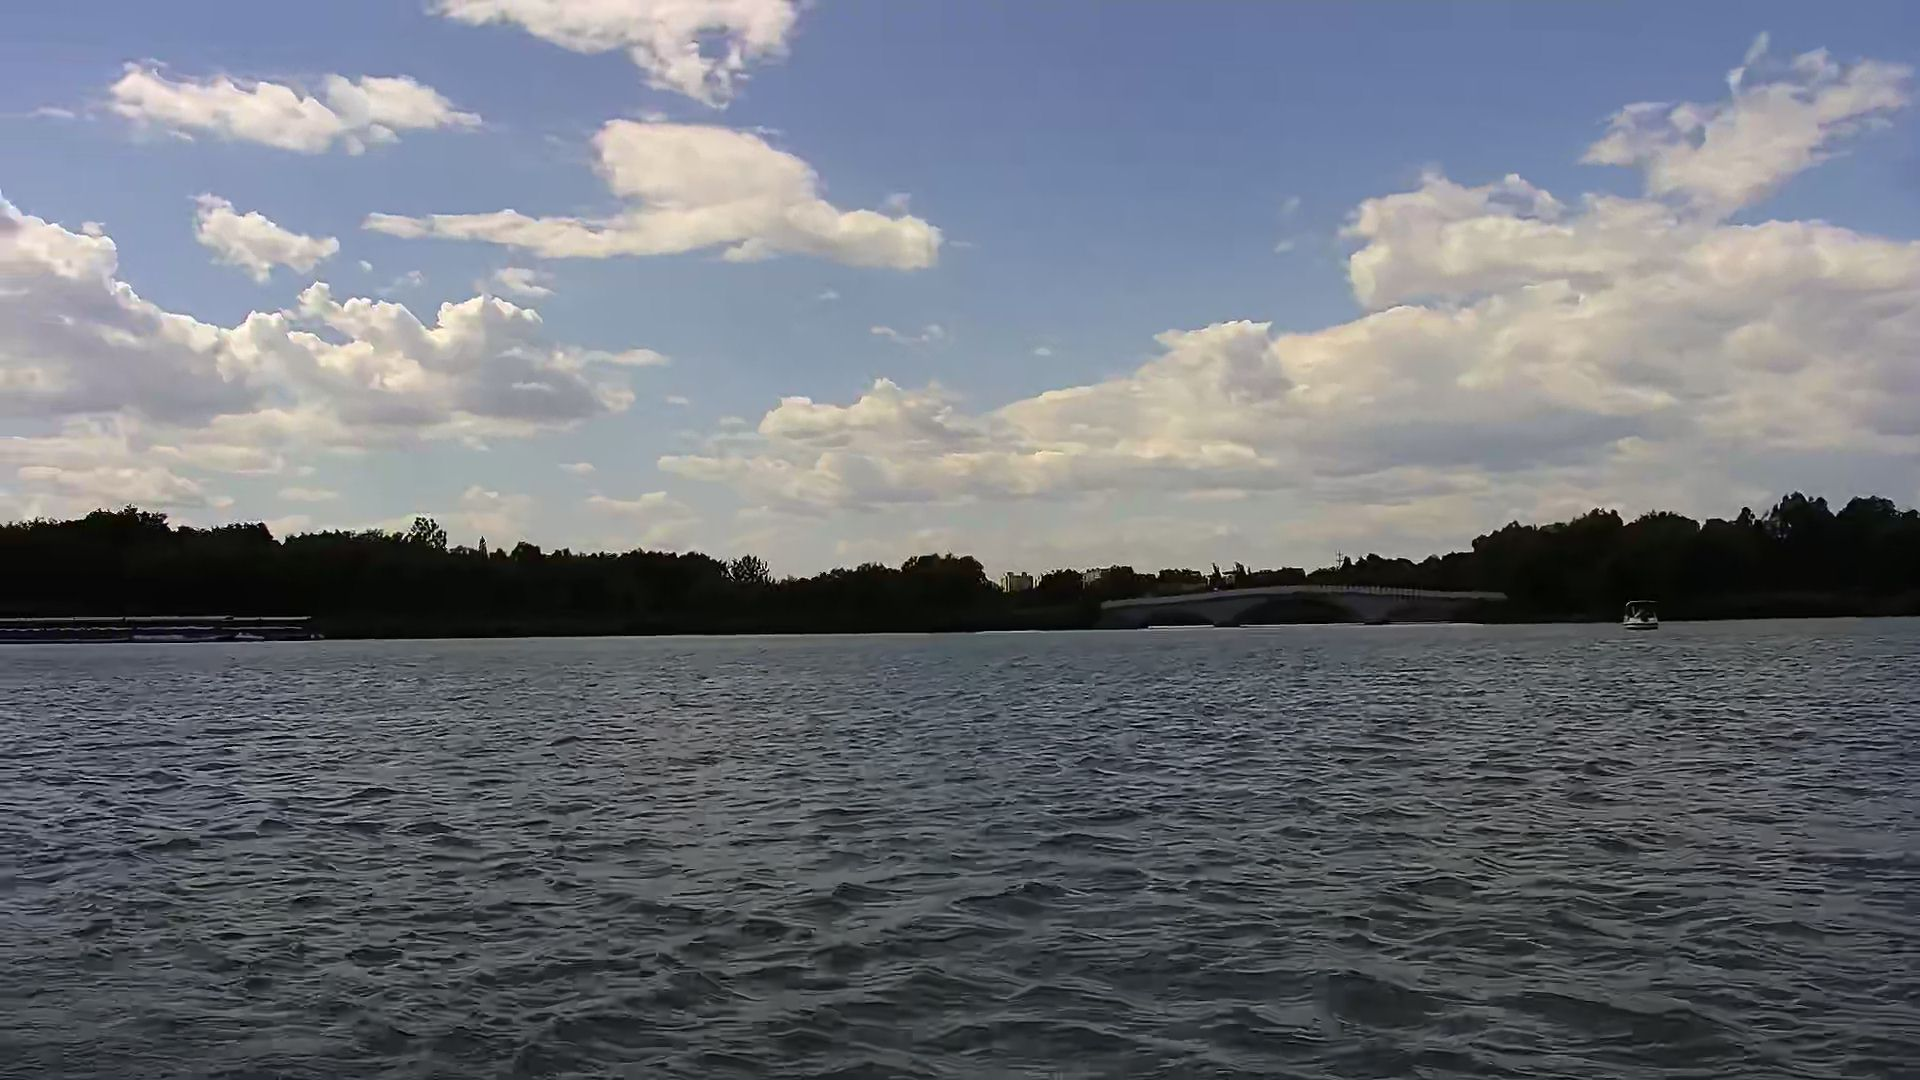boat: (1619, 595, 1658, 630)
bridge: (1098, 585, 1510, 622)
harbor: (8, 613, 307, 637)
